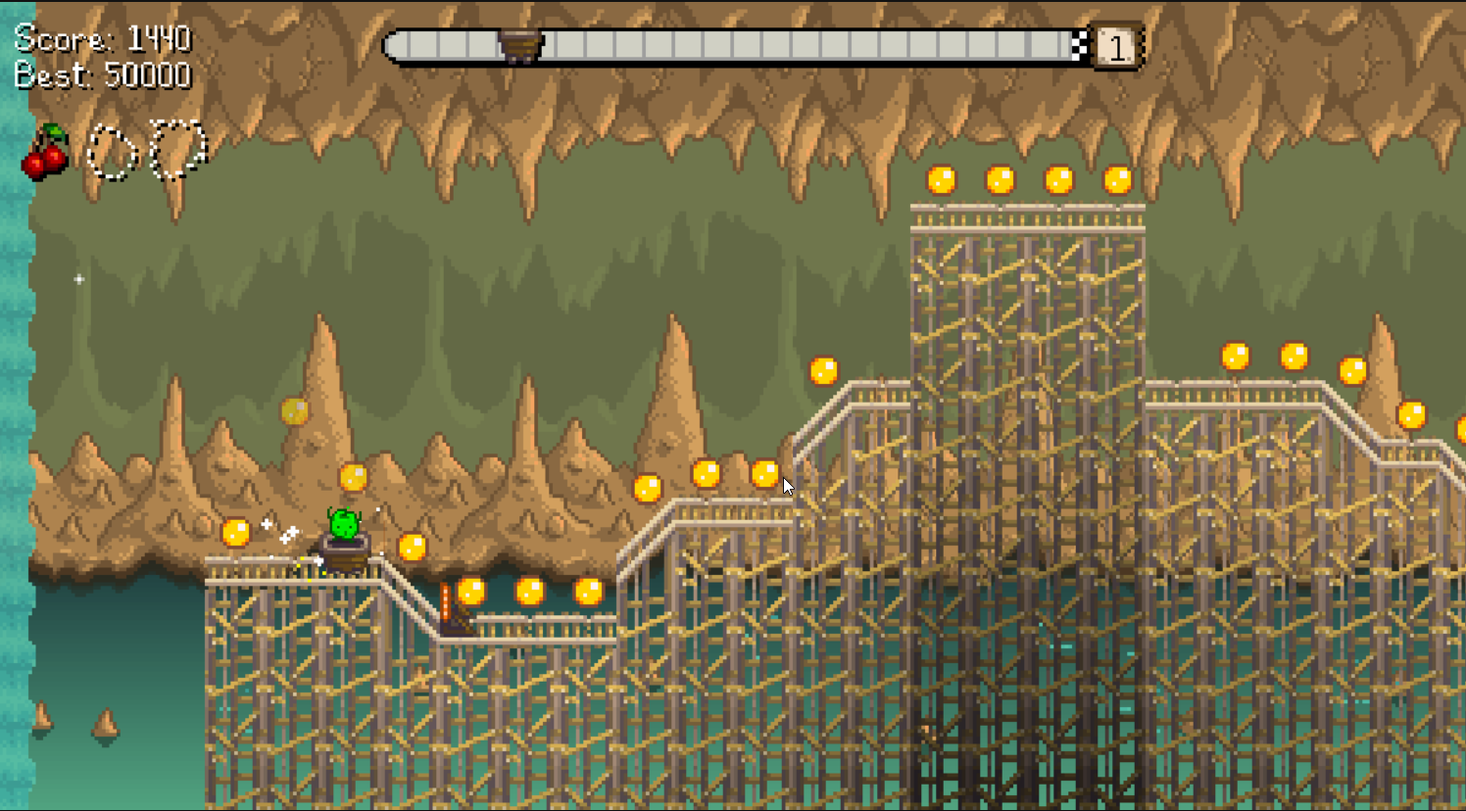barricade: (440, 582, 472, 636)
coins: (1396, 400, 1427, 432), (1220, 342, 1250, 373), (515, 576, 545, 606), (691, 458, 720, 488), (750, 458, 780, 487), (927, 165, 956, 195), (1103, 166, 1132, 195), (1280, 342, 1309, 371), (1338, 356, 1367, 385), (986, 165, 1014, 195), (457, 577, 485, 606), (809, 357, 838, 385), (574, 578, 604, 605), (398, 533, 426, 561), (633, 474, 660, 503), (1045, 166, 1072, 195)
minecart: (319, 532, 367, 573)
tracks: (1143, 380, 1465, 497), (617, 465, 812, 583), (205, 556, 444, 642), (788, 379, 912, 462), (910, 204, 1146, 237), (455, 614, 615, 647), (206, 557, 380, 586), (369, 558, 396, 574)
